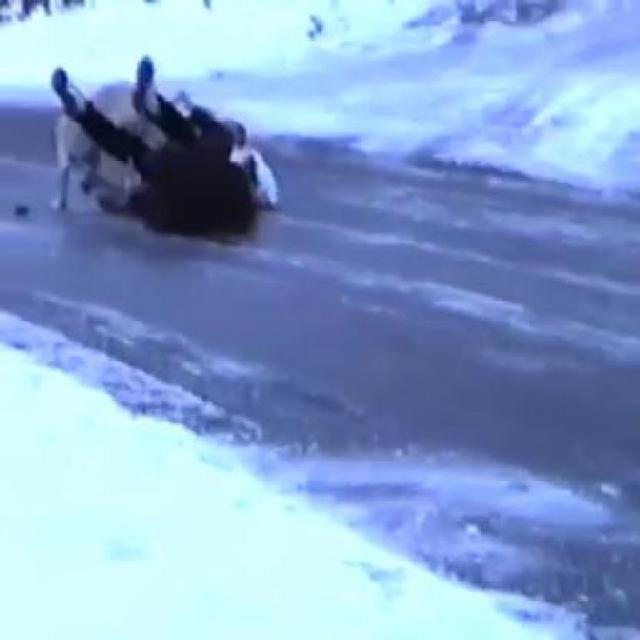fall: (48, 58, 281, 233)
